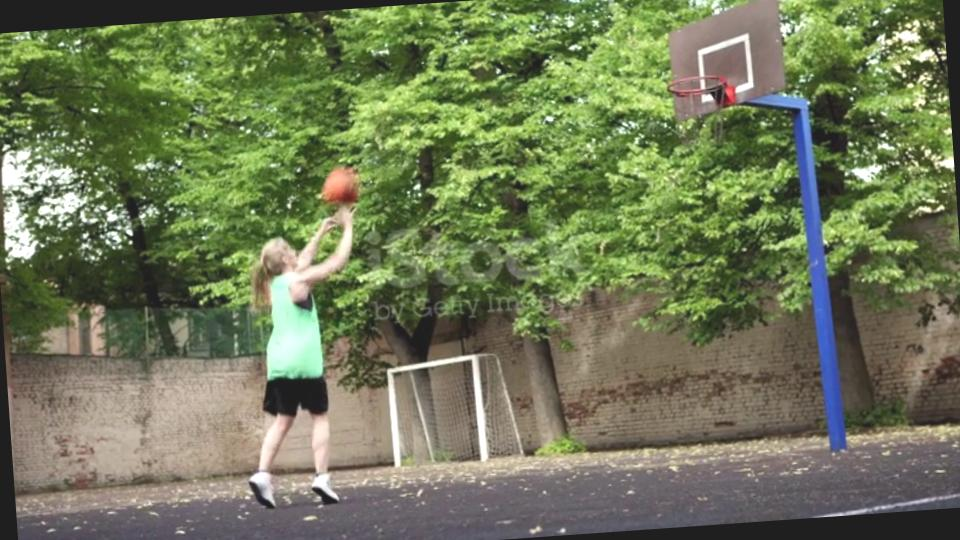hoop: (666, 74, 736, 99)
